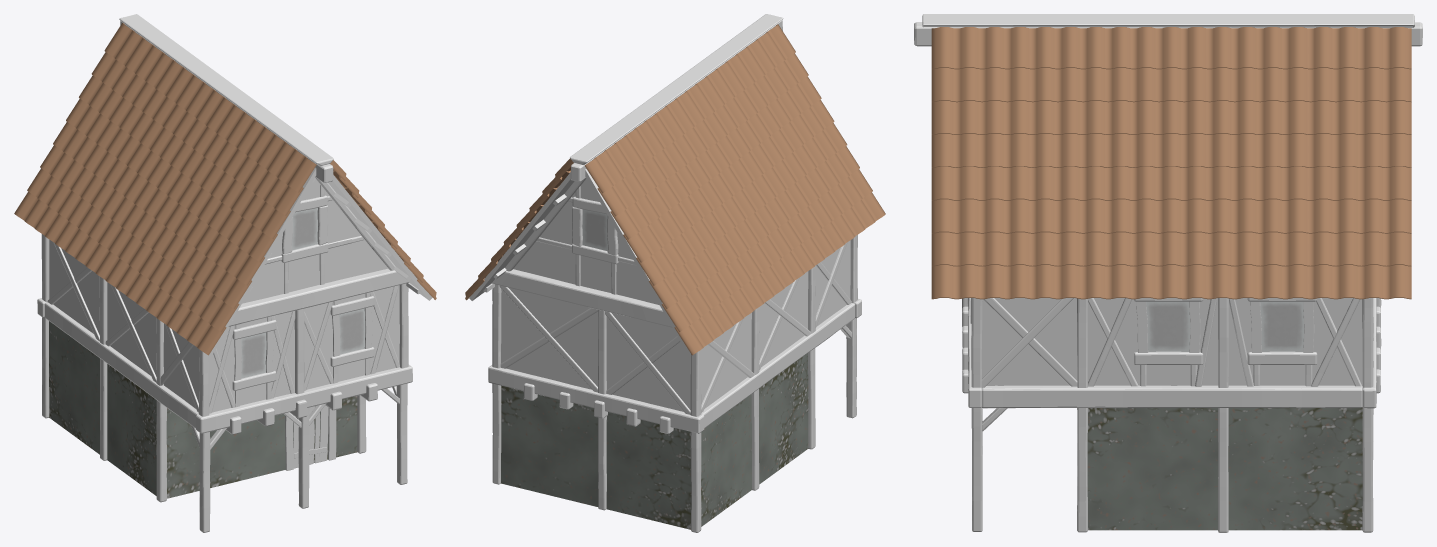
The model's file is uploads_files_2612585_House#1ExportVersion.fbx.
The picture shows the model from 3 angles, left to right: view 1: azimuth 30°, elevation 25°; view 2: azimuth 150°, elevation 25°; view 3: azimuth 270°, elevation 25°; orthographic projection. The views are drawn at different scales.
Visible parts, largest first — view 1: Roof, Wooden Carcass, Walls, Cobblestone Foundation, WindowFrames+Door, GlassPanes; view 2: Roof, Wooden Carcass, Cobblestone Foundation, Walls, WindowFrames+Door, GlassPanes; view 3: Roof, Wooden Carcass, Cobblestone Foundation, Walls, WindowFrames+Door, GlassPanes.
Part boxes in pixels (<box>): Roof: <box>14,23,436,355</box>; Wooden Carcass: <box>37,14,421,532</box>; Walls: <box>49,167,432,412</box>; Cobblestone Foundation: <box>49,321,357,498</box>; WindowFrames+Door: <box>232,195,374,470</box>; GlassPanes: <box>241,208,365,378</box>; Roof: <box>465,24,885,355</box>; Wooden Carcass: <box>483,14,861,532</box>; Cobblestone Foundation: <box>501,353,808,529</box>; Walls: <box>469,169,850,411</box>; WindowFrames+Door: <box>572,196,618,264</box>; GlassPanes: <box>582,209,607,251</box>; Roof: <box>931,27,1411,299</box>; Wooden Carcass: <box>914,14,1422,532</box>; Cobblestone Foundation: <box>1087,407,1362,530</box>; Walls: <box>982,298,1362,385</box>; WindowFrames+Door: <box>1134,298,1317,364</box>; GlassPanes: <box>1146,301,1303,351</box>.
Bounding box in the file's own units: 482 × 708 × 722.
